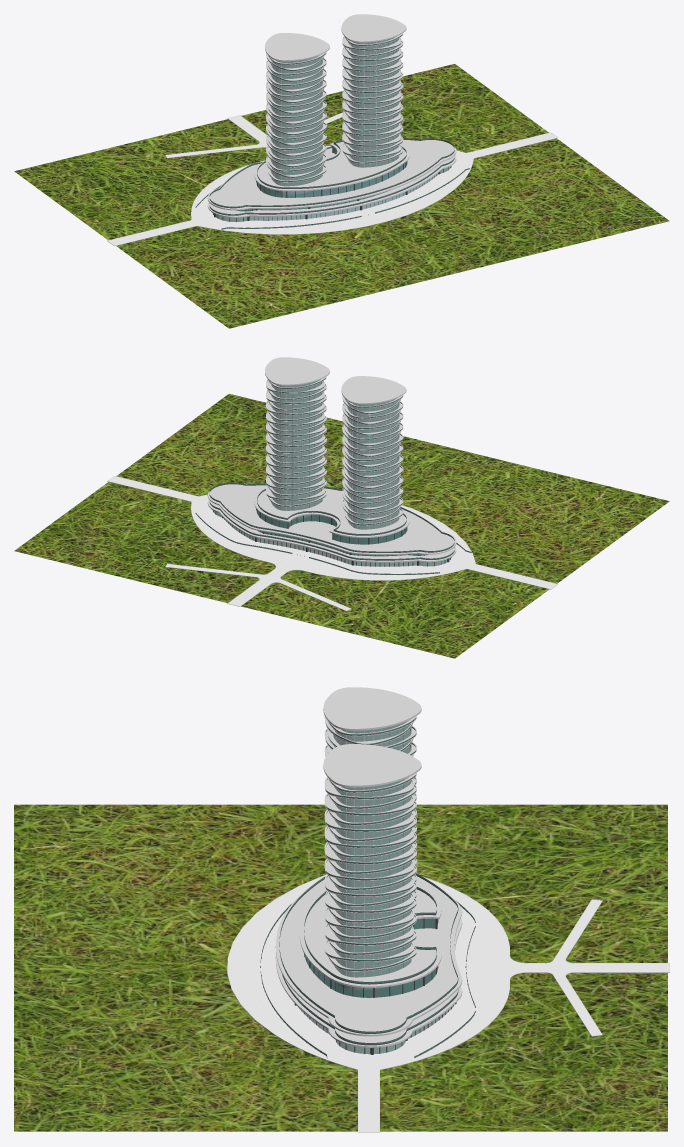
File: building-min.glb
The picture shows the model from 3 angles, top to bottom: view 1: azimuth 30°, elevation 25°; view 2: azimuth 150°, elevation 25°; view 3: azimuth 270°, elevation 25°; orthographic projection. The views are drawn at different scales.
Visible parts, largest first — view 1: Plane, 0_curve_.008, 0_curve_.265, 0_curve_.022, 0_curve_.264, 0_curve_.267, 0_curve_.018, 0_curve_.001, 0_curve_.121, 0_curve_.120, 0_curve_.016, 0_curve_.266 (+3 smaller); view 2: Plane, 0_curve_.265, 0_curve_.008, 0_curve_.022, 0_curve_.264, 0_curve_.267, 0_curve_.018, 0_curve_.001, 0_curve_.120, 0_curve_.121, 0_curve_.266, 0_curve_.016 (+3 smaller); view 3: Plane, 0_curve_.265, 0_curve_.008, 0_curve_.264, 0_curve_.267, 0_curve_.018, 0_curve_.120, 0_curve_.121, 0_curve_.001, 0_curve_.266, 0_curve_.016, 0_curve_.214 (+5 smaller).
Boxes of the visible parts, x1,y1,x2,y2 form: Plane: (14,64,669,328); 0_curve_.008: (207,139,456,210); 0_curve_.265: (108,112,557,245); 0_curve_.022: (271,56,322,194); 0_curve_.264: (348,37,398,167); 0_curve_.267: (202,156,460,228); 0_curve_.018: (254,141,409,191); 0_curve_.001: (207,155,456,217); 0_curve_.121: (341,14,406,42); 0_curve_.120: (265,33,329,61); 0_curve_.016: (256,147,406,197); 0_curve_.266: (107,112,557,246); Plane: (14,393,669,658); 0_curve_.265: (108,476,557,610); 0_curve_.008: (207,483,456,555); 0_curve_.022: (347,398,399,529); 0_curve_.264: (271,379,322,518); 0_curve_.267: (202,501,460,573); 0_curve_.018: (254,488,409,537); 0_curve_.001: (207,499,456,562); 0_curve_.120: (341,376,406,404); 0_curve_.121: (265,357,329,385); 0_curve_.266: (107,476,558,611); 0_curve_.016: (256,509,406,544); Plane: (14,804,667,1131); 0_curve_.265: (227,874,669,1132); 0_curve_.008: (275,874,462,1036); 0_curve_.264: (334,777,411,990); 0_curve_.267: (248,910,497,1061); 0_curve_.018: (299,887,441,987); 0_curve_.120: (323,687,421,730); 0_curve_.121: (323,744,421,787); 0_curve_.001: (275,918,462,1047); 0_curve_.266: (227,874,669,1132); 0_curve_.016: (304,918,437,997); 0_curve_.214: (336,777,408,977).
Size of the model in its own units: 435 by 143 by 366.
7 materials, 1 textured.
